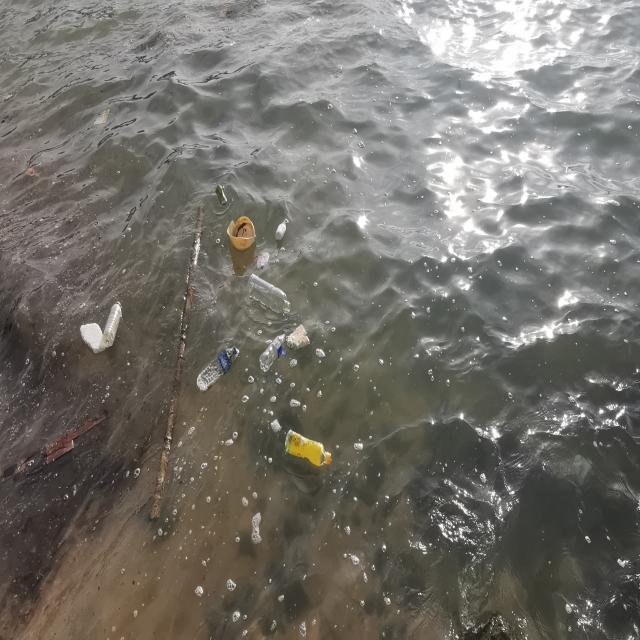can: (216, 184, 228, 206)
foam: (80, 322, 106, 354), (287, 323, 310, 348)
plastic: (196, 346, 236, 392), (248, 273, 291, 315), (284, 430, 332, 467), (259, 333, 286, 373), (103, 300, 121, 348), (275, 221, 287, 241)
plastic bottle: (228, 216, 256, 251), (94, 109, 110, 126)
unknow: (256, 251, 270, 270)
